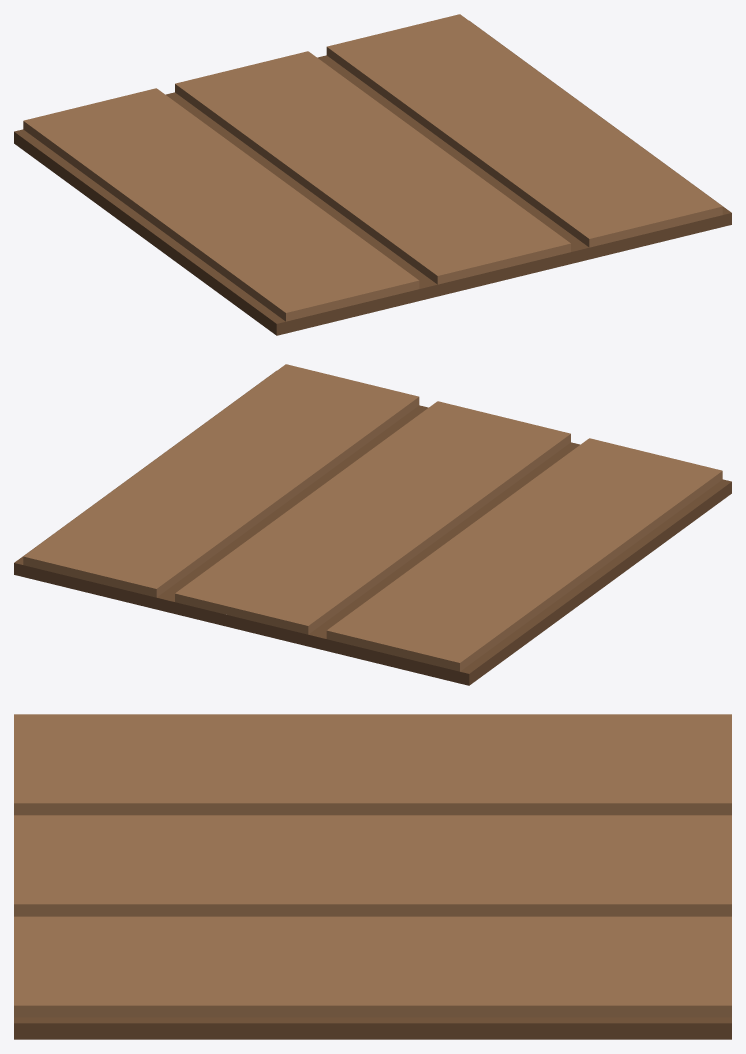
Rendered from FloorBlock_03.glb.
3 views of the same model, one above another, from view 1: azimuth 30°, elevation 25°; view 2: azimuth 150°, elevation 25°; view 3: azimuth 270°, elevation 25° (orthographic). The views are drawn at different scales.
Visible parts, largest first — view 1: Floor_Block_03; view 2: Floor_Block_03; view 3: Floor_Block_03.
Boxes of the visible parts, x1,y1,x2,y2 form: Floor_Block_03: (14, 14, 731, 335); Floor_Block_03: (14, 364, 731, 685); Floor_Block_03: (14, 714, 731, 1039).
Size of what is drawn, in the model's own units: 2 by 0.0863 by 2.
1 material, 1 textured.
